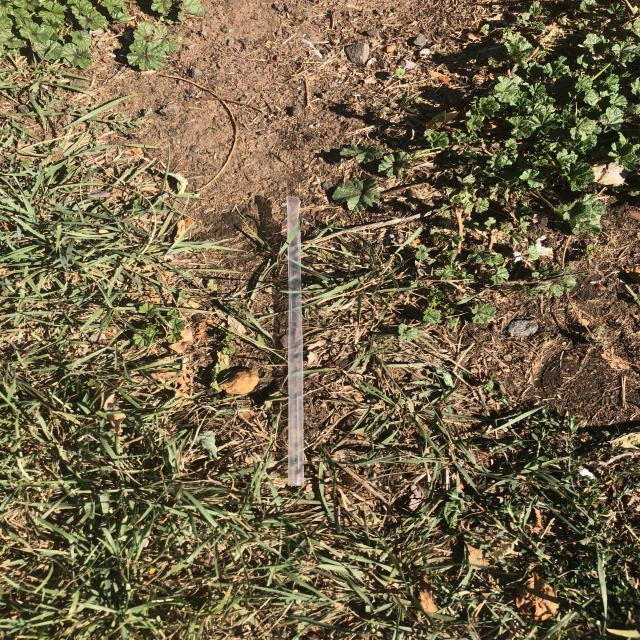litter: (259, 252, 640, 265)
